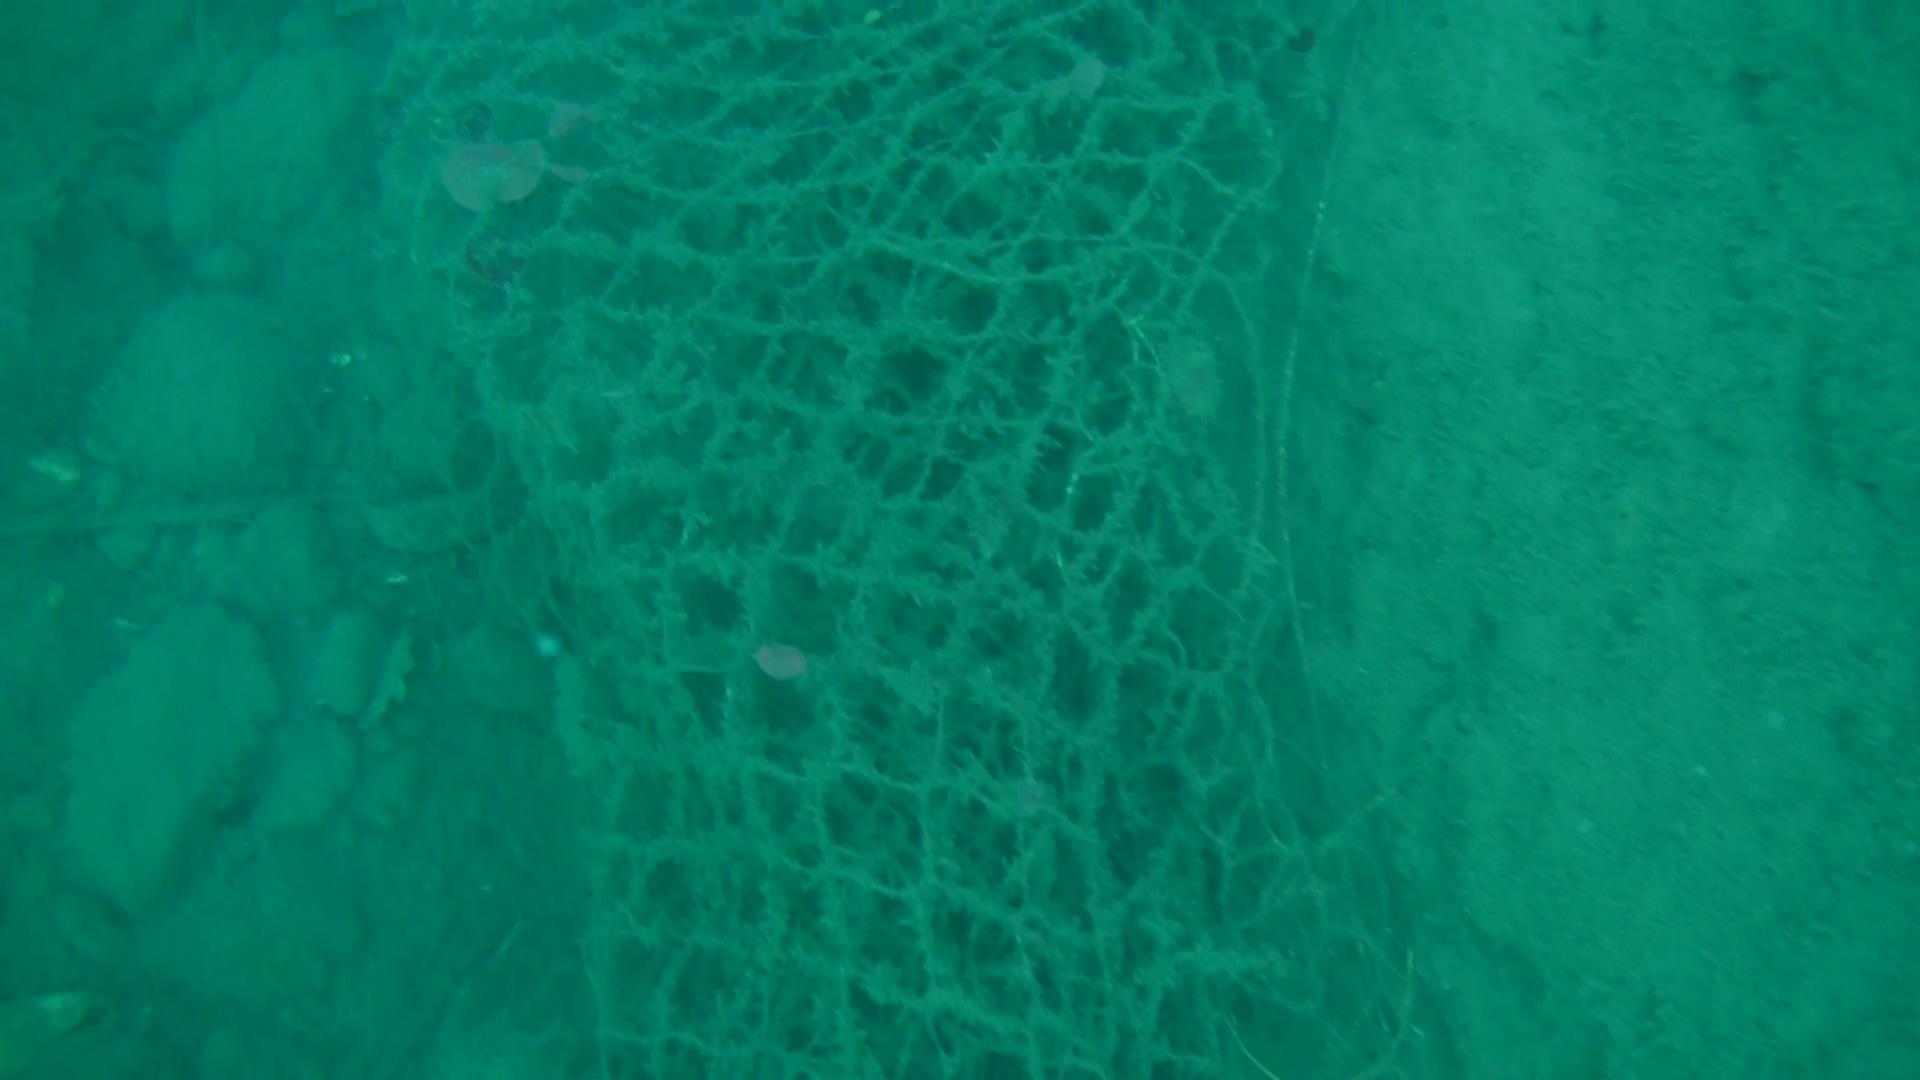fish net: (369, 0, 1390, 1080)
